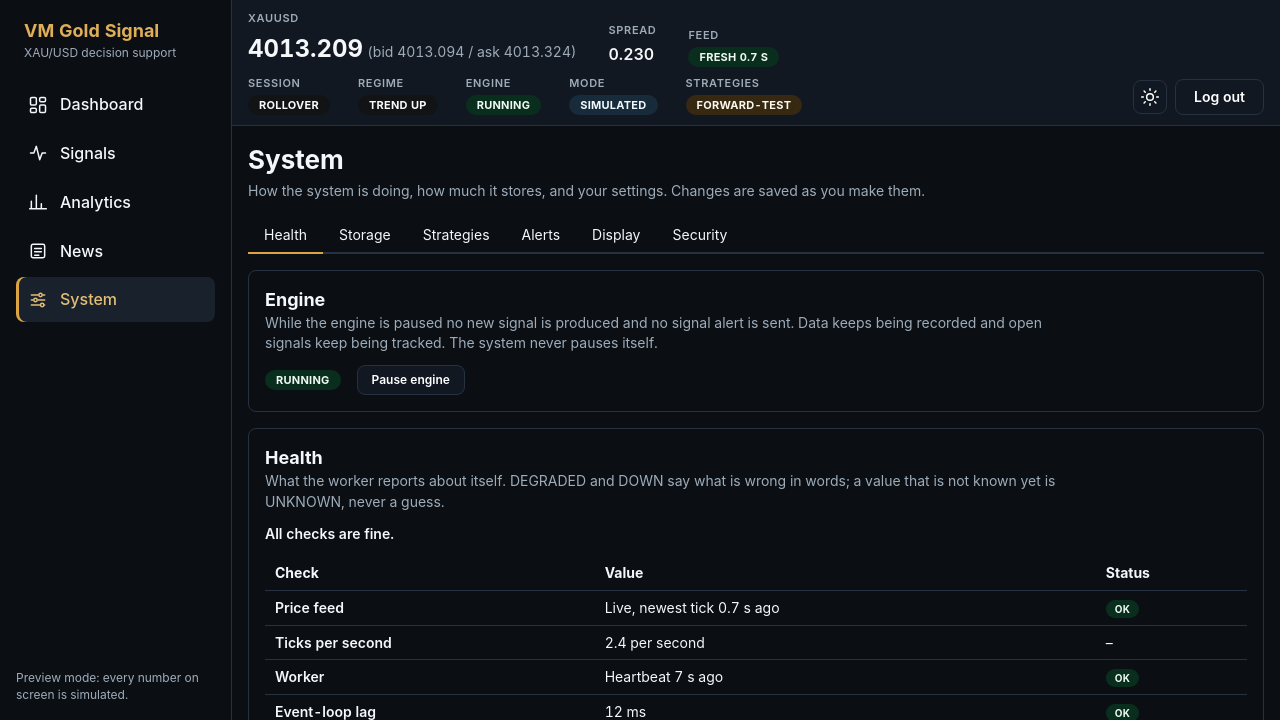
Test: the health tab › the engine card › pauses until the owner resumes, with no time
The image size is (1280, 720).
Expected: the tab "Health" is shown, [248, 218, 323, 254]
Click the button with test id "health-pause" at (411, 380), box [356, 365, 465, 395]
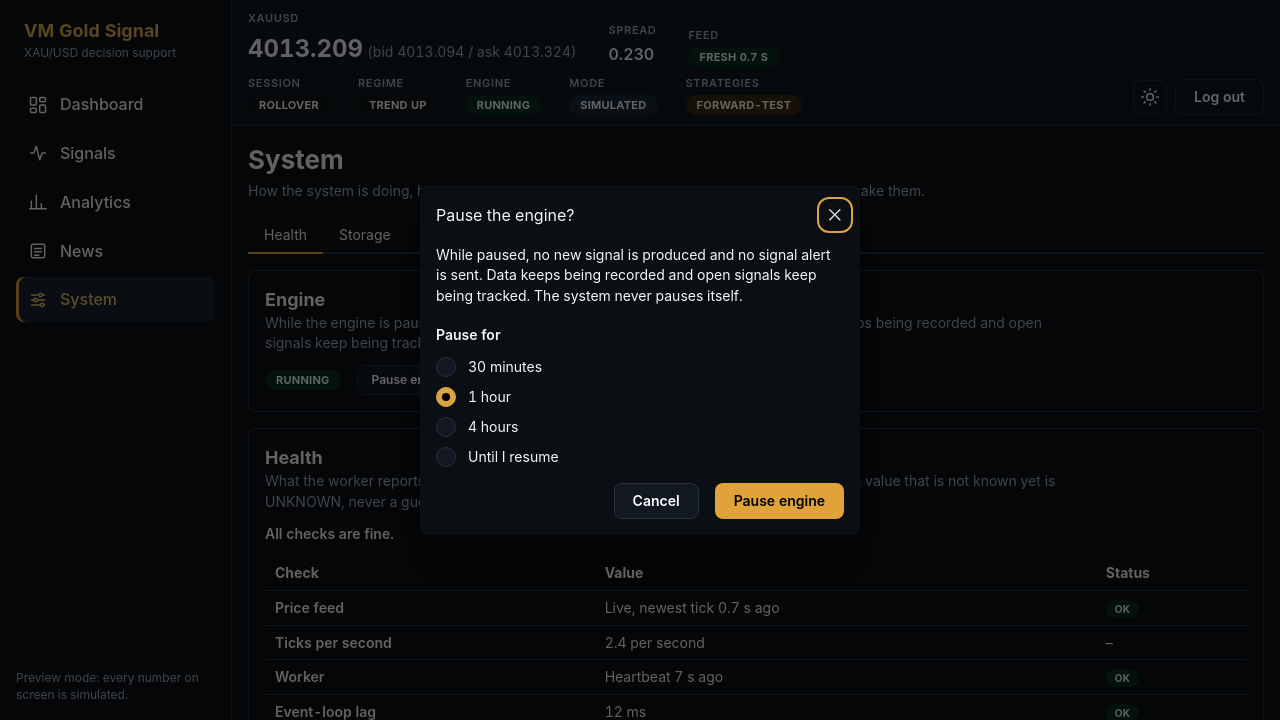
Click the radio button labelled "Until I resume" at (446, 457), box [436, 447, 456, 467]
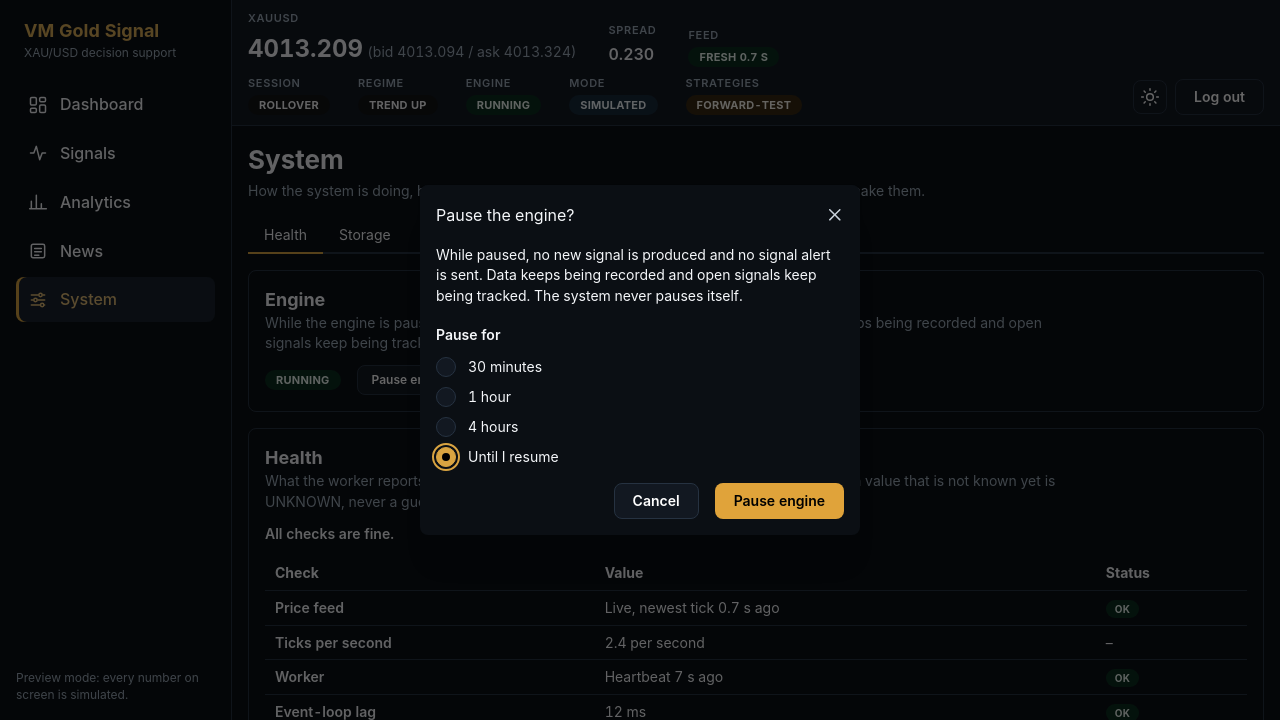
Click the button with test id "pause-confirm" at (779, 501), box [715, 483, 844, 519]
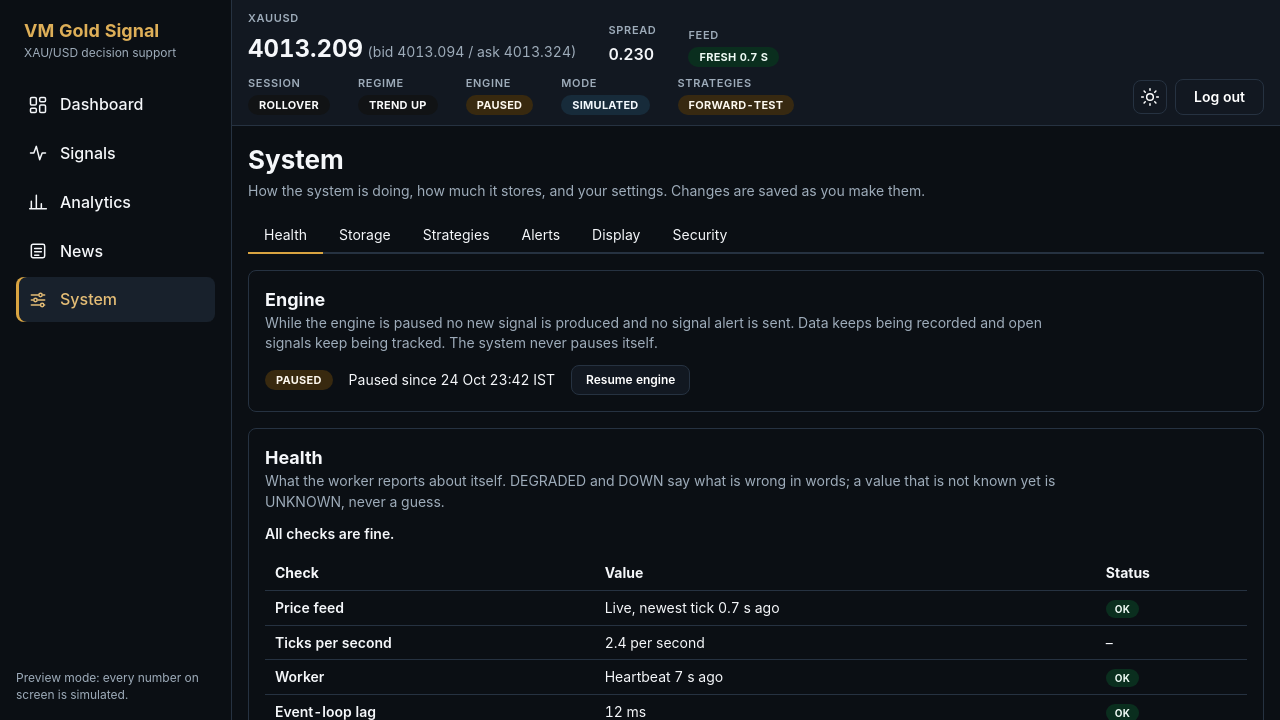
Result: the element with test id "health-engine-status" reads "PAUSED" at [276, 373, 322, 387]
